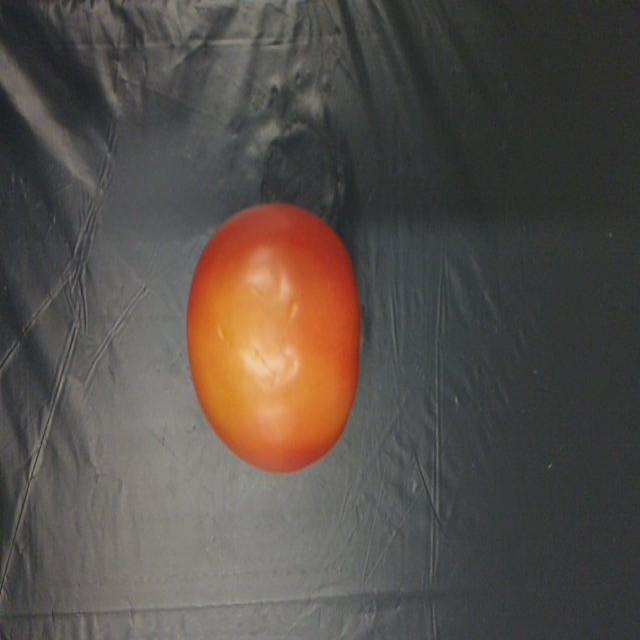sari: (188, 188, 368, 488)
